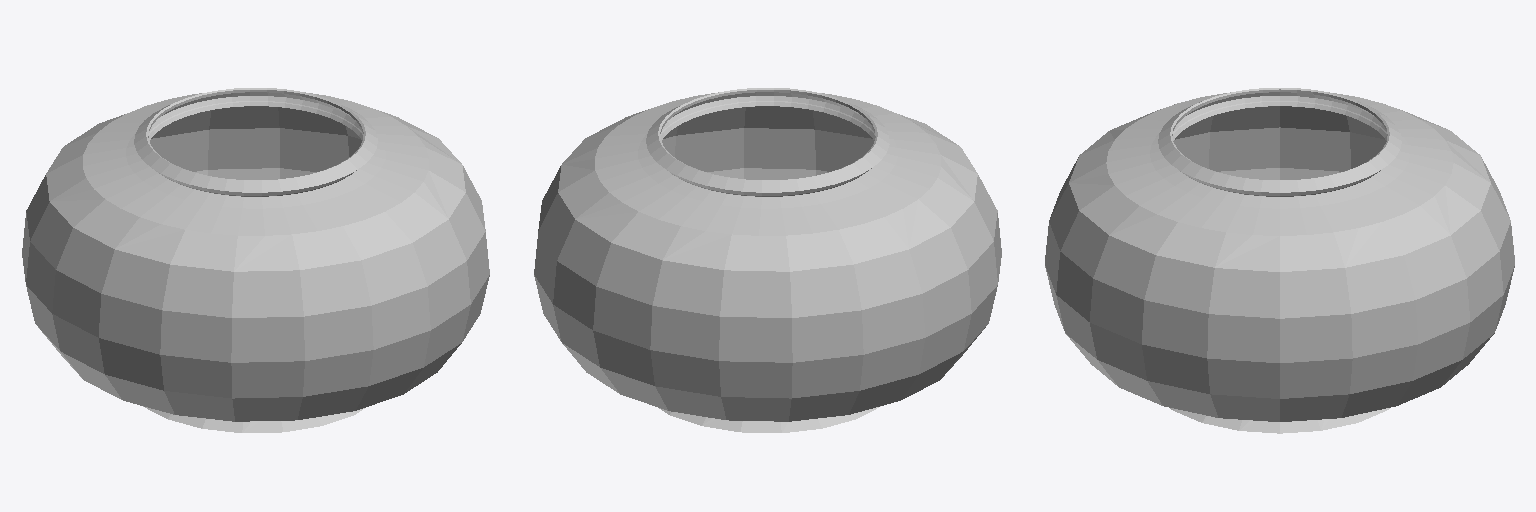
Rendered from FinalFishModel??.obj.
3 views of the same model, side by side, from view 1: azimuth 30°, elevation 25°; view 2: azimuth 150°, elevation 25°; view 3: azimuth 270°, elevation 25° (orthographic).
Visible parts, largest first — view 1: Bowl; view 2: Bowl; view 3: Bowl.
Boxes of the visible parts, x1,y1,x2,y2 form: Bowl: [22, 88, 489, 432]; Bowl: [534, 88, 1001, 432]; Bowl: [1045, 88, 1514, 433].
Bounding box in the file's own units: 33.68 × 19.27 × 33.68.